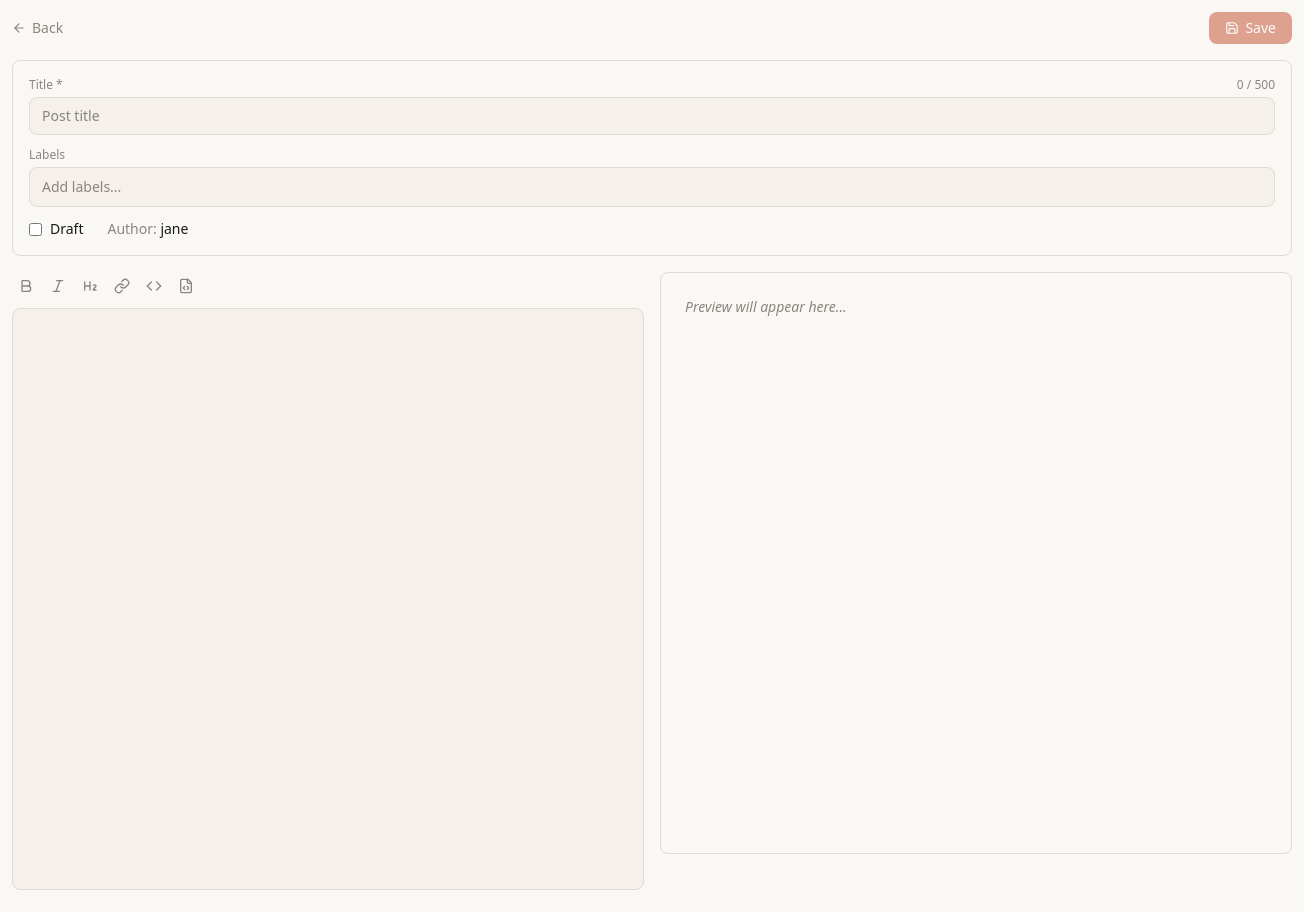
EditorPage › enables save button when title is provided
The width and height of the screenshot is (1304, 912).
expect the button "Save" is disabled: met, box x1=1209 y1=12 x2=1292 y2=44
Type "A Title" into the field labelled "Title *" at (652, 116), box x1=29 y1=97 x2=1275 y2=135
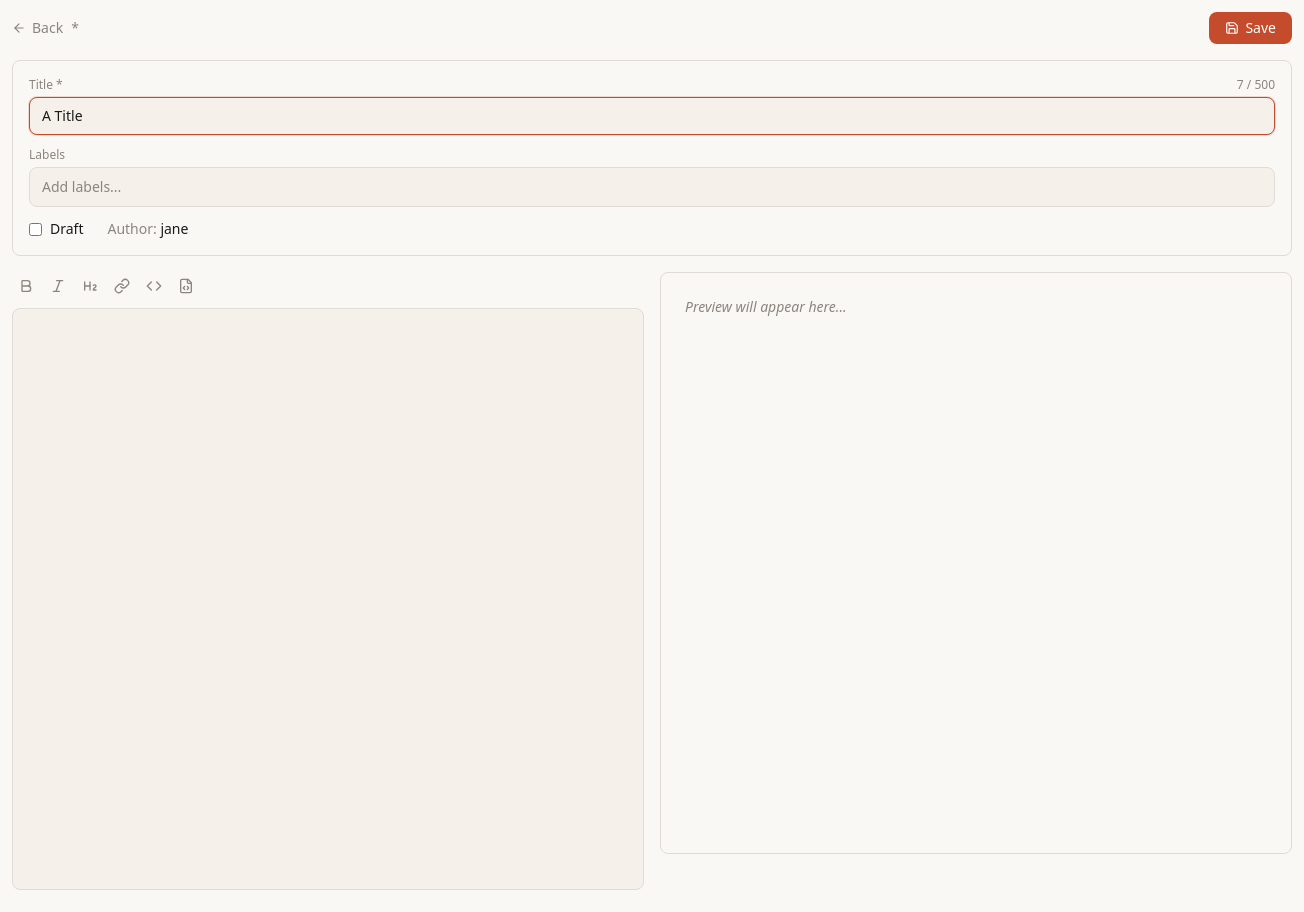
expect the button "Save" is enabled: met, box x1=1209 y1=12 x2=1292 y2=44
